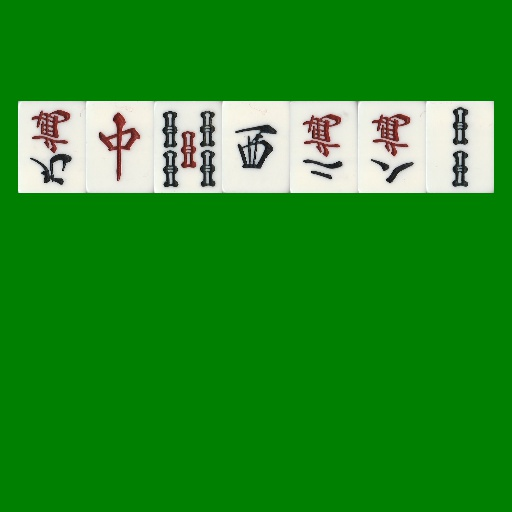2m: (290, 101, 358, 193)
2s: (426, 101, 494, 193)
5s: (154, 101, 222, 193)
8m: (358, 101, 426, 193)
9m: (18, 101, 86, 193)
tyun: (86, 101, 154, 193)
west: (222, 101, 290, 193)
